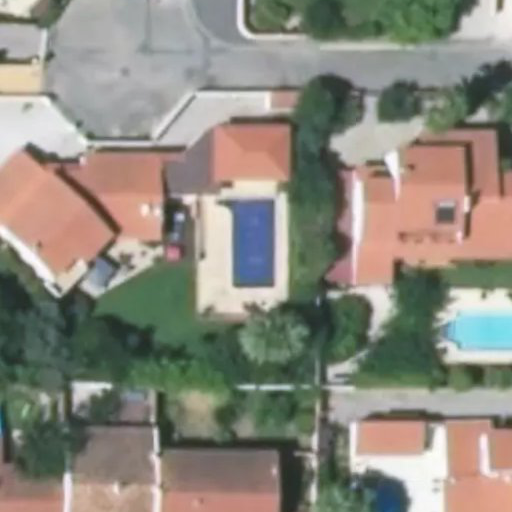pool: (233, 197, 278, 286)
